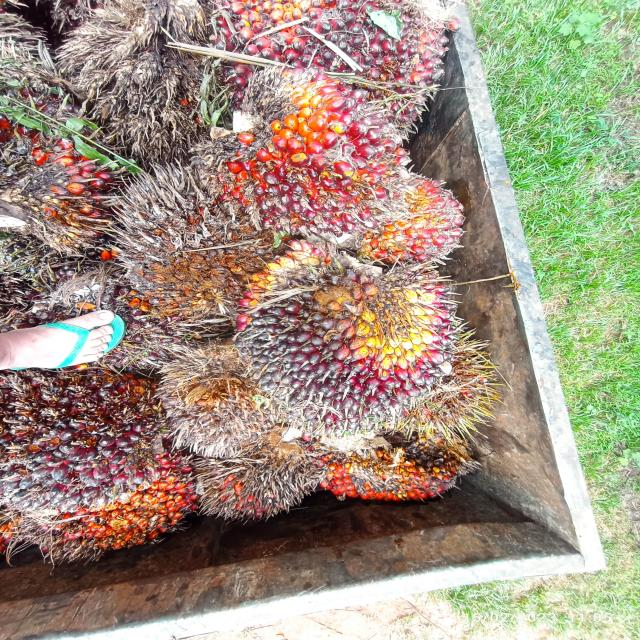fraksi 1: (232, 238, 478, 434), (3, 368, 171, 524)
fraksi 3: (191, 73, 433, 243), (209, 0, 473, 119), (332, 160, 507, 270), (312, 420, 463, 520)
fraksi 4: (106, 175, 256, 322), (153, 334, 278, 463)
